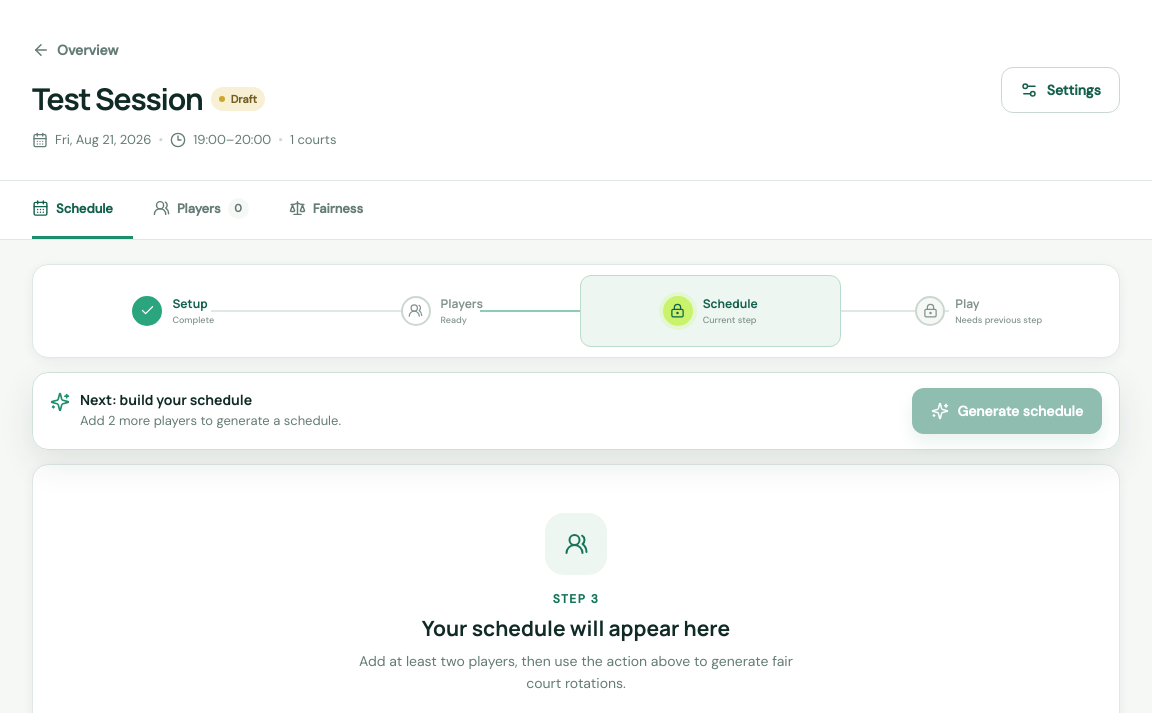
Scenario: SessionPage lifecycle › uses the progress steps for guided navigation and explains locked steps
Click the button "Players Ready".
click(442, 310)  # box left=312, top=274, right=572, bottom=346
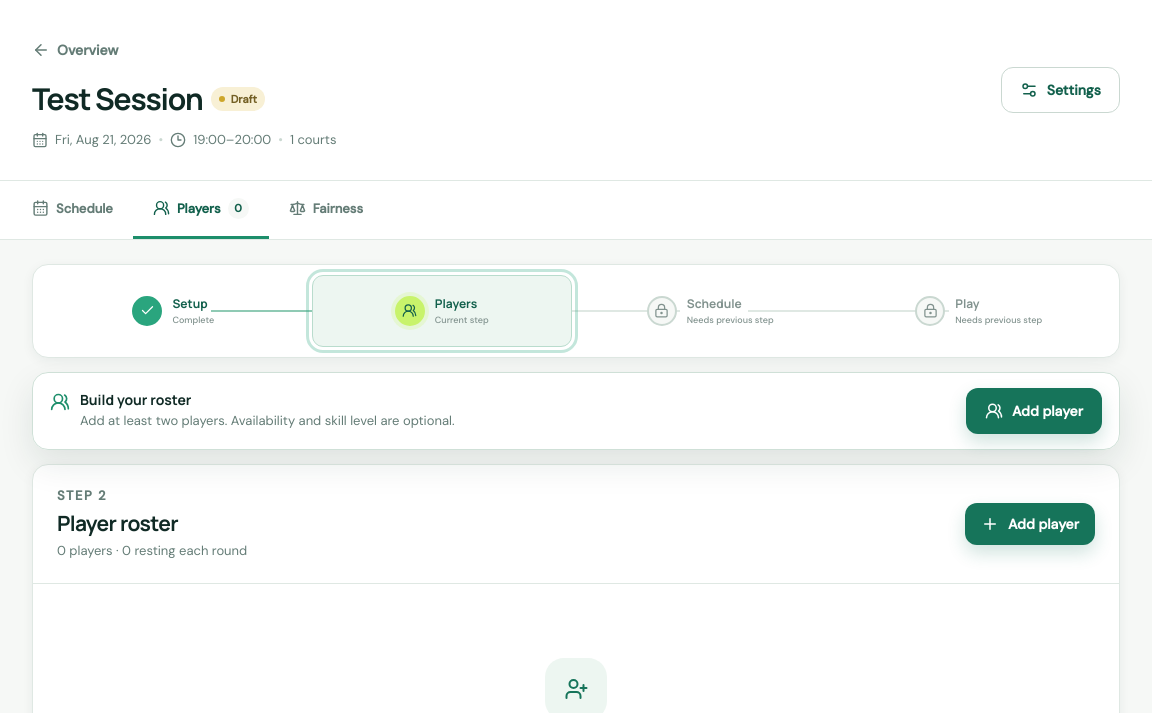
Check: the heading "Player roster" is shown, box left=57, top=509, right=178, bottom=537
Click the button "Schedule Needs previous step".
click(710, 310)  # box left=580, top=274, right=840, bottom=346
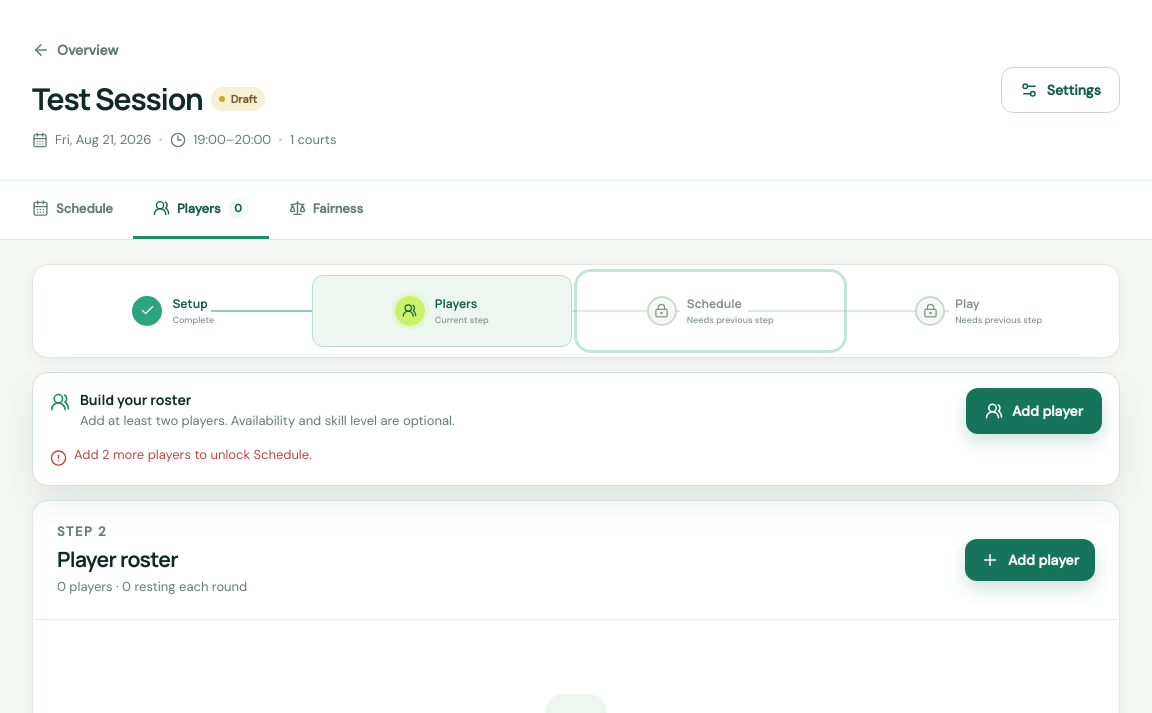
Check: the message shows "Add 2 more players to unlock Schedule", box left=74, top=446, right=312, bottom=462
Click the button "Setup Complete".
click(173, 310)  # box left=43, top=274, right=304, bottom=346
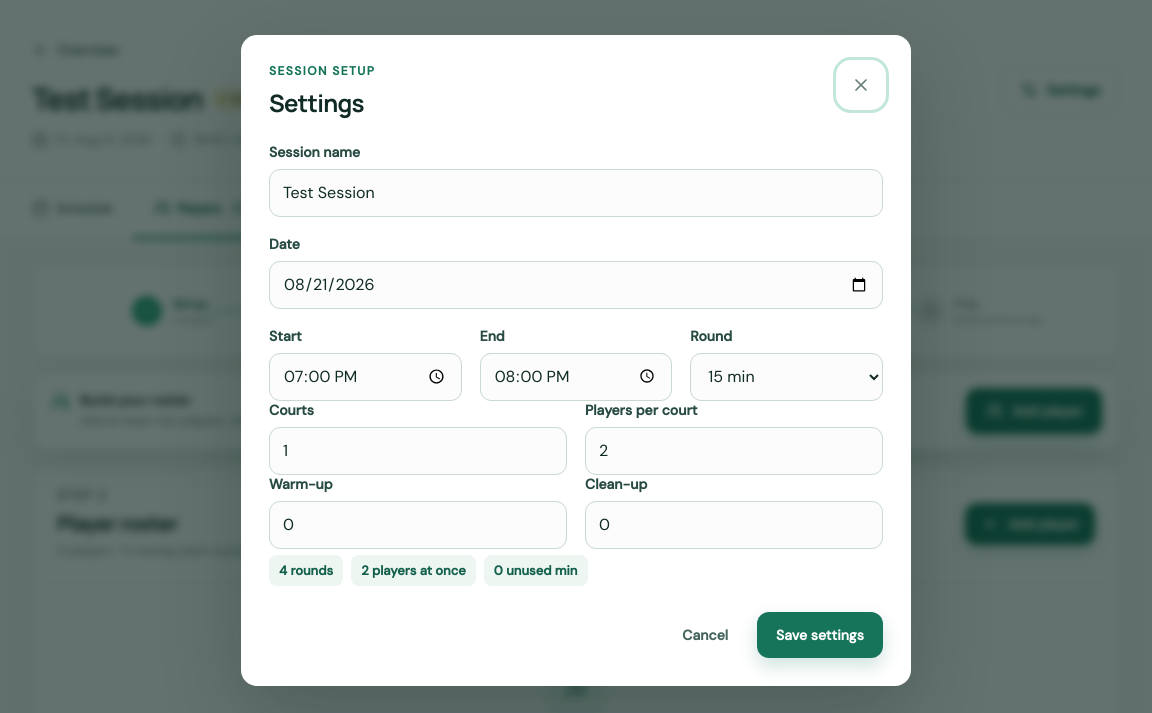
Check: the dialog "Settings" is shown, box left=241, top=34, right=911, bottom=686
